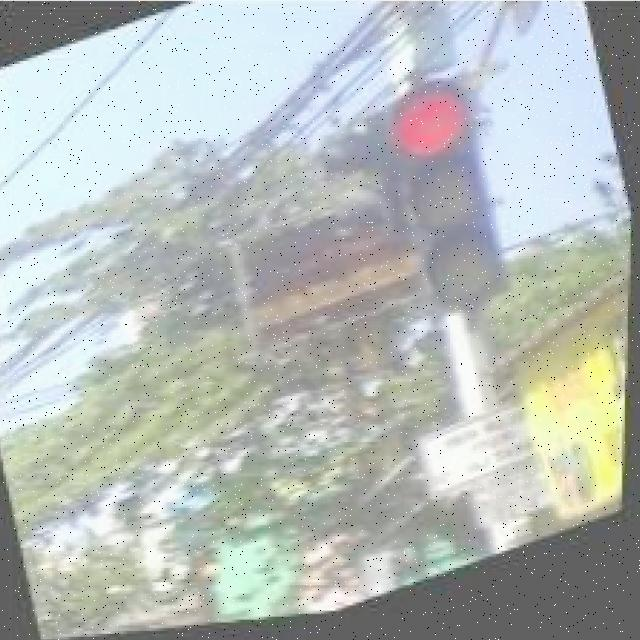Lampu Merah: (378, 78, 522, 336)
